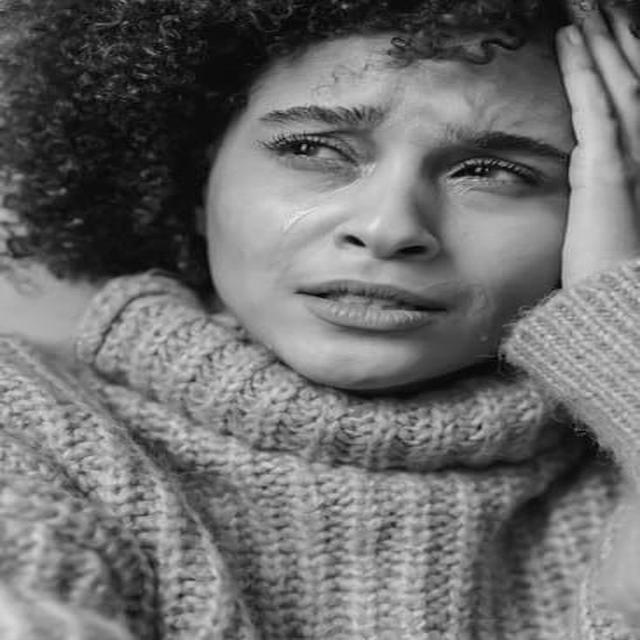Sadness: (211, 30, 575, 391)
